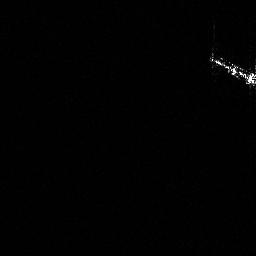ship: (207, 48, 256, 88)
